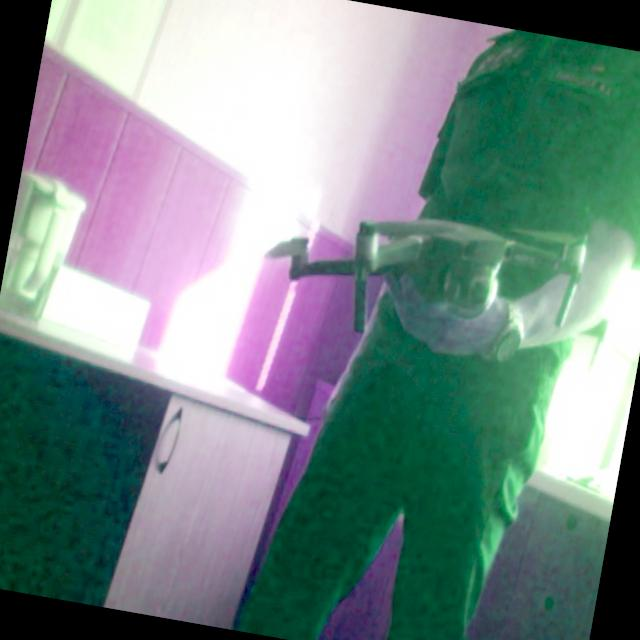drone: (254, 174, 616, 358)
